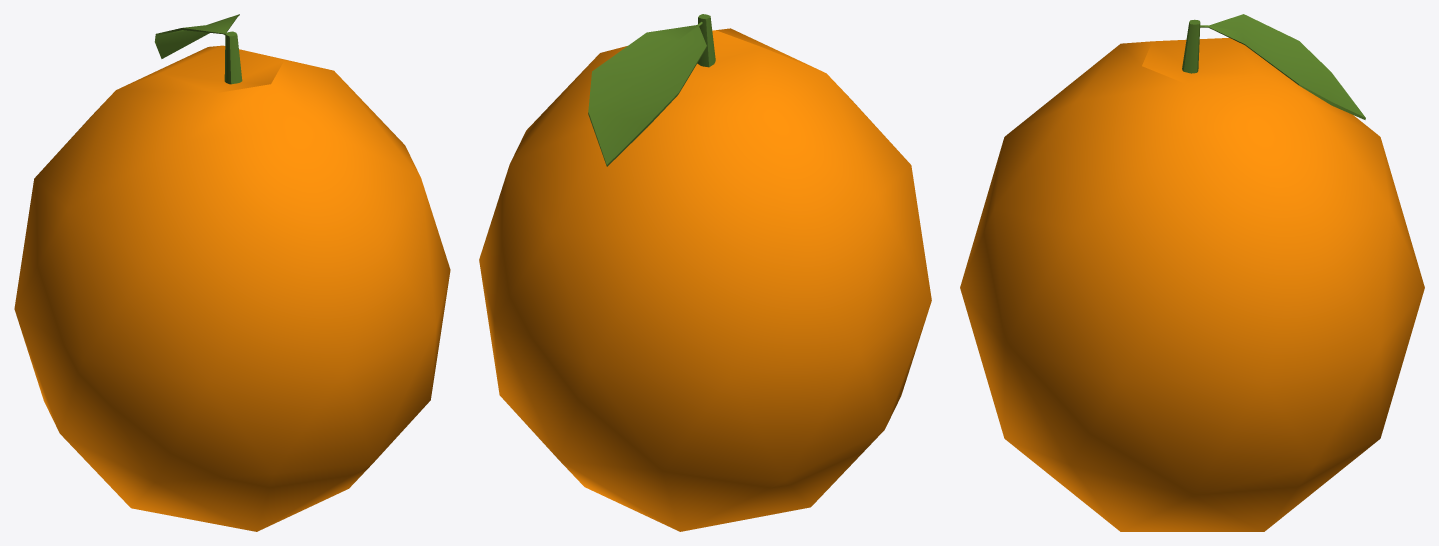
File: Food_14.glb
The picture shows the model from 3 angles, left to right: view 1: azimuth 30°, elevation 25°; view 2: azimuth 150°, elevation 25°; view 3: azimuth 270°, elevation 25°; orthographic projection. The views are drawn at different scales.
Visible parts, largest first — view 1: Food_14_LOD0; view 2: Food_14_LOD0; view 3: Food_14_LOD0.
Boxes of the visible parts, x1,y1,x2,y2 form: Food_14_LOD0: (14, 14, 450, 531); Food_14_LOD0: (479, 14, 931, 531); Food_14_LOD0: (960, 14, 1424, 531).
Size of what is drawn, in the model's own units: 0.092 by 0.1135 by 0.0967.
Materials: 1 (1 with a texture image).
